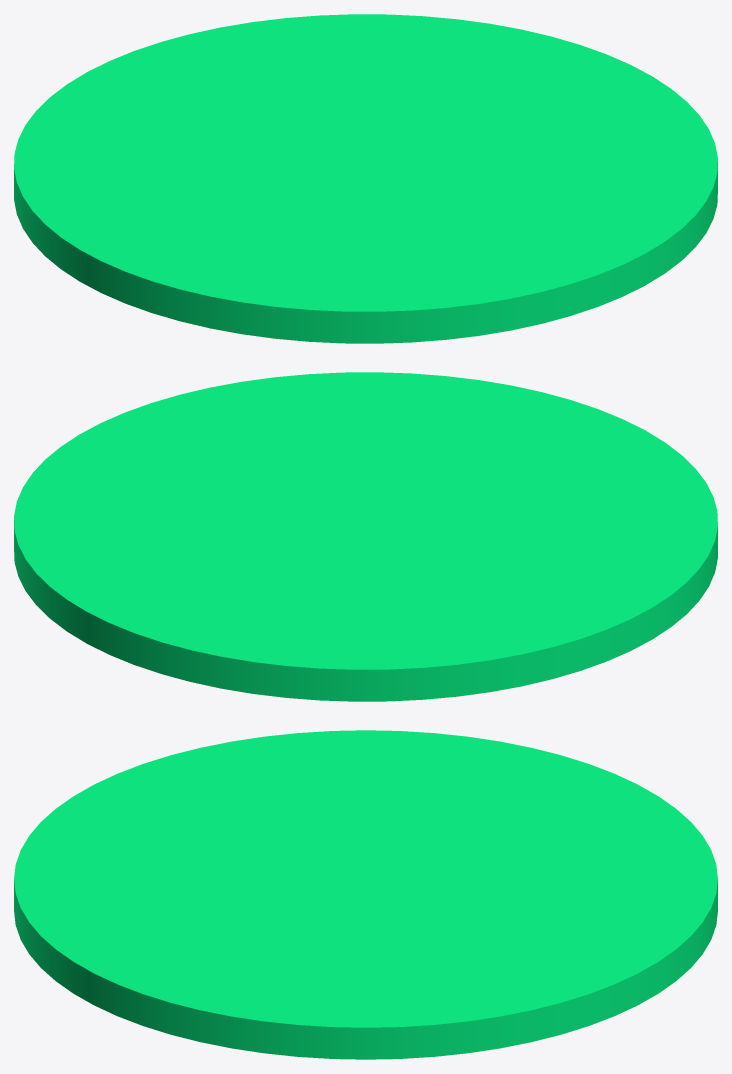
The model's file is cylinder_physics_animated_1766366487950.glb.
3 views of the same model, one above another, from view 1: azimuth 30°, elevation 25°; view 2: azimuth 150°, elevation 25°; view 3: azimuth 270°, elevation 25° (orthographic).
Parts seen in each view (by area): view 1: MathShape; view 2: MathShape; view 3: MathShape.
Part boxes in pixels (x1=…): MathShape: x1=14, y1=14, x2=717, y2=343; MathShape: x1=14, y1=372, x2=717, y2=701; MathShape: x1=14, y1=730, x2=717, y2=1059.
Size of the model in its own units: 2 by 0.1 by 2.
